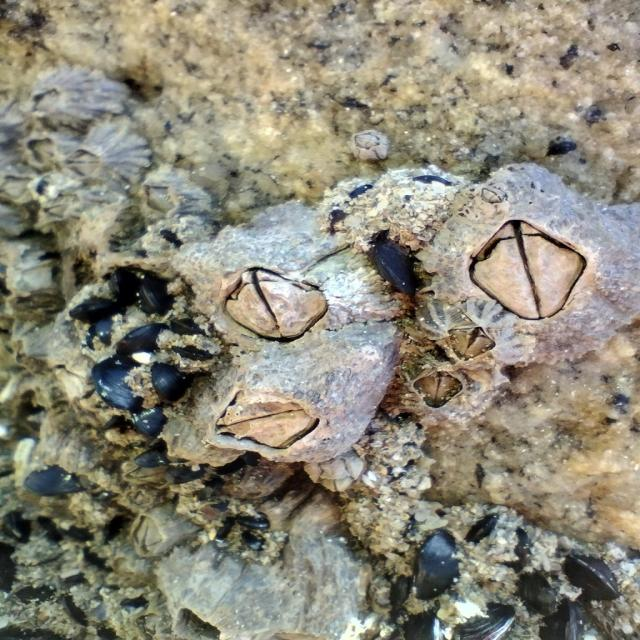barnacles: (407, 164, 614, 347), (171, 215, 394, 350), (165, 350, 387, 466), (10, 62, 124, 130), (61, 126, 150, 194), (125, 172, 209, 224), (343, 120, 394, 166)
